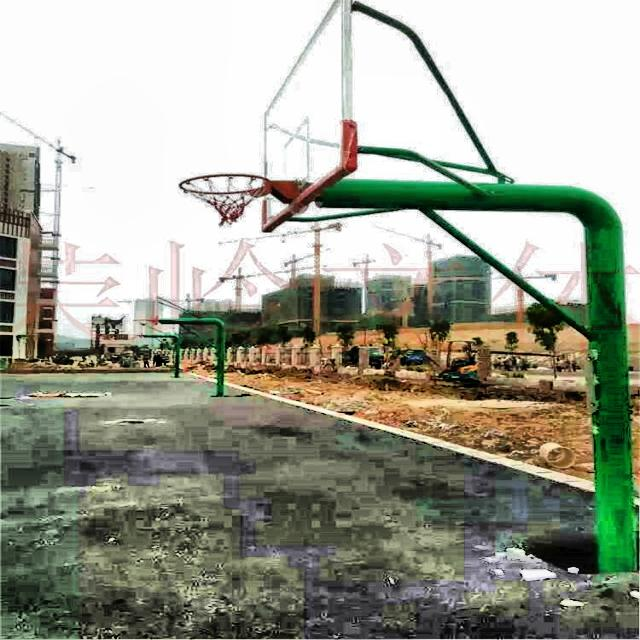rim: (180, 171, 268, 224)
